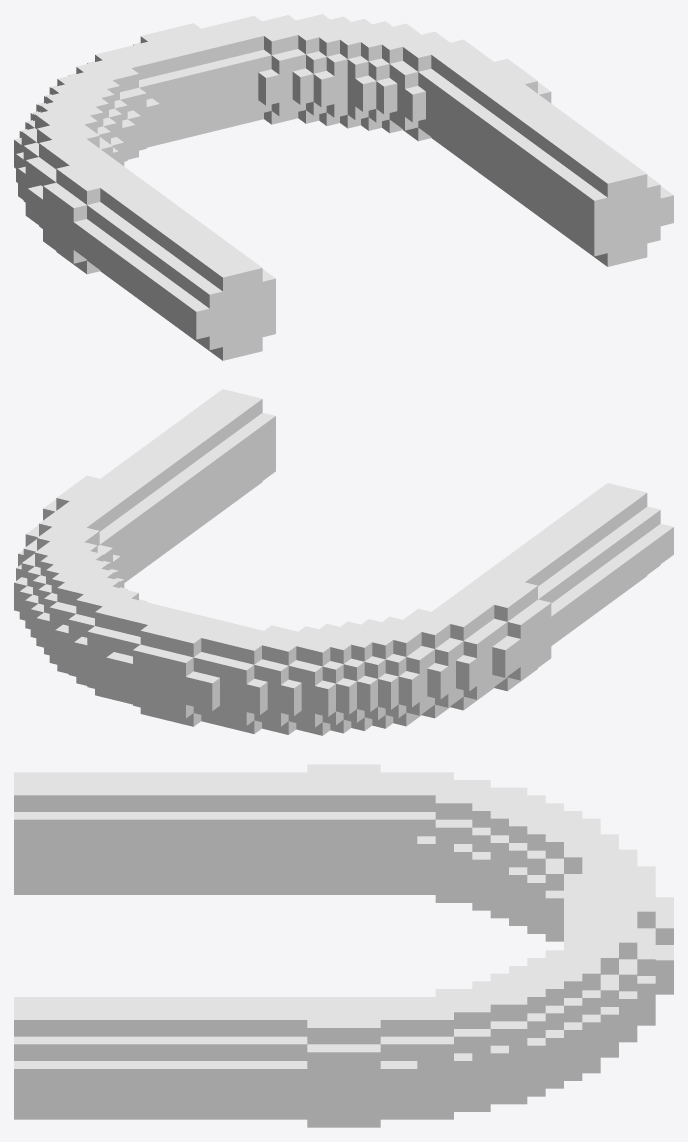
The model's file is clinch.fbx.
The picture shows the model from 3 angles, top to bottom: view 1: azimuth 30°, elevation 25°; view 2: azimuth 150°, elevation 25°; view 3: azimuth 270°, elevation 25°; orthographic projection. The views are drawn at different scales.
Visible parts, largest first — view 1: Torus; view 2: Torus; view 3: Torus.
Part boxes in pixels (bbox=[...]): Torus: bbox=[14, 14, 673, 360]; Torus: bbox=[14, 389, 673, 735]; Torus: bbox=[14, 764, 673, 1127].
Size of the model in its own units: 36 by 6 by 36.
Materials: 1 (1 with a texture image).
